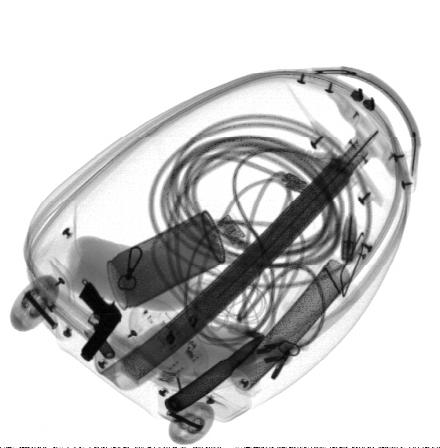Bullet: (165, 333, 264, 416)
Gun: (79, 282, 123, 362)
